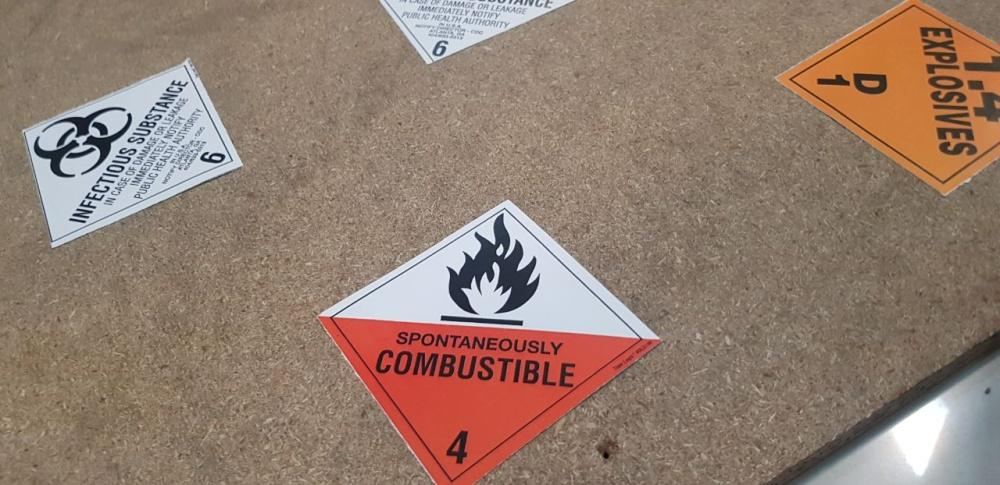explosive: (788, 1, 996, 189)
infectious-substance: (21, 61, 246, 247), (372, 1, 583, 68)
spontaneously-combustible: (333, 205, 643, 480)
